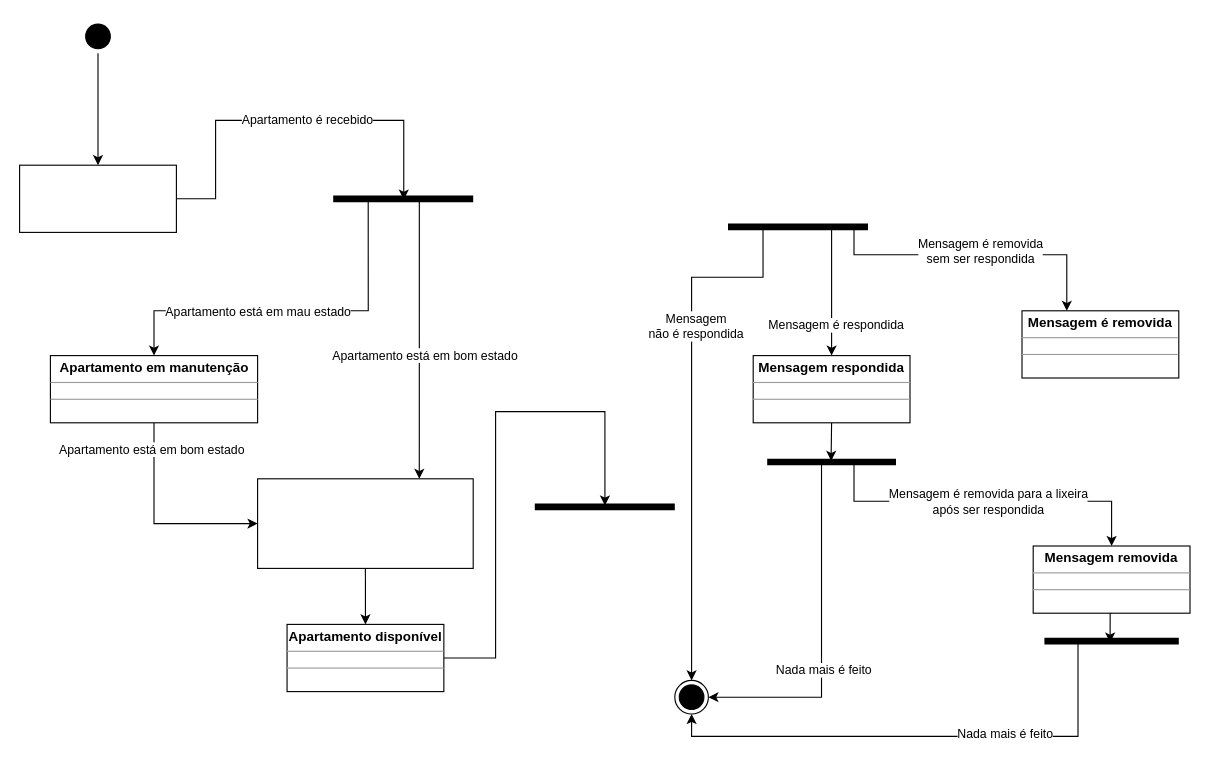
The diagram is 1210 pixels wide and 765 high, and some of its shapes have lost their labels. Each missing label, with the centre of its shape:
"Apartamento" goes at [97,198].
"Apartamento com documentação sendo validada" goes at [364,523].
